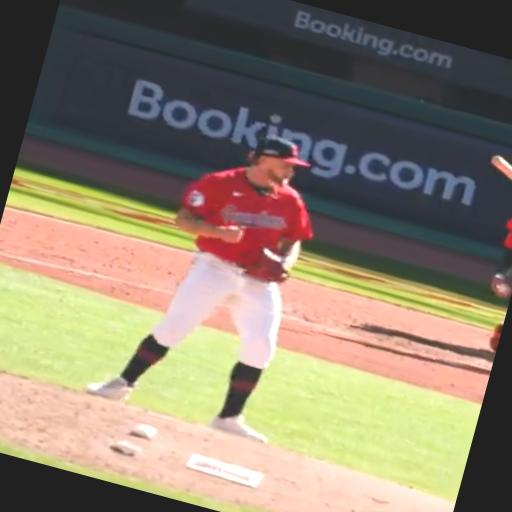bat: (491, 155, 511, 181)
